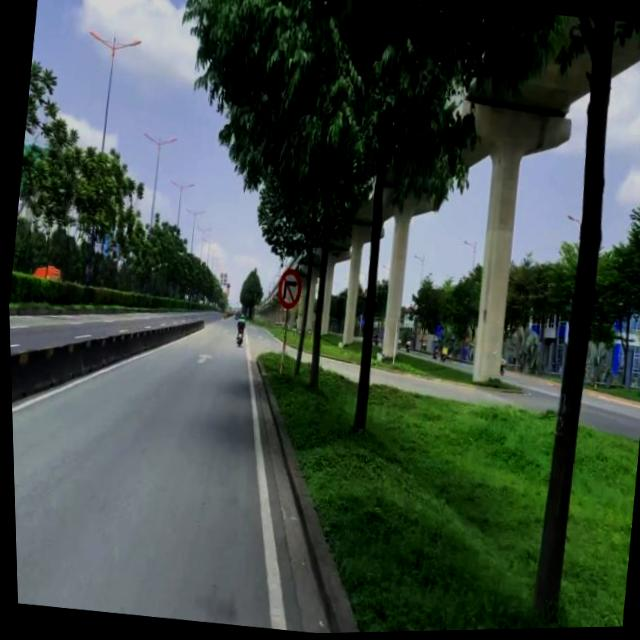Cam re phai: (273, 268, 302, 313)
